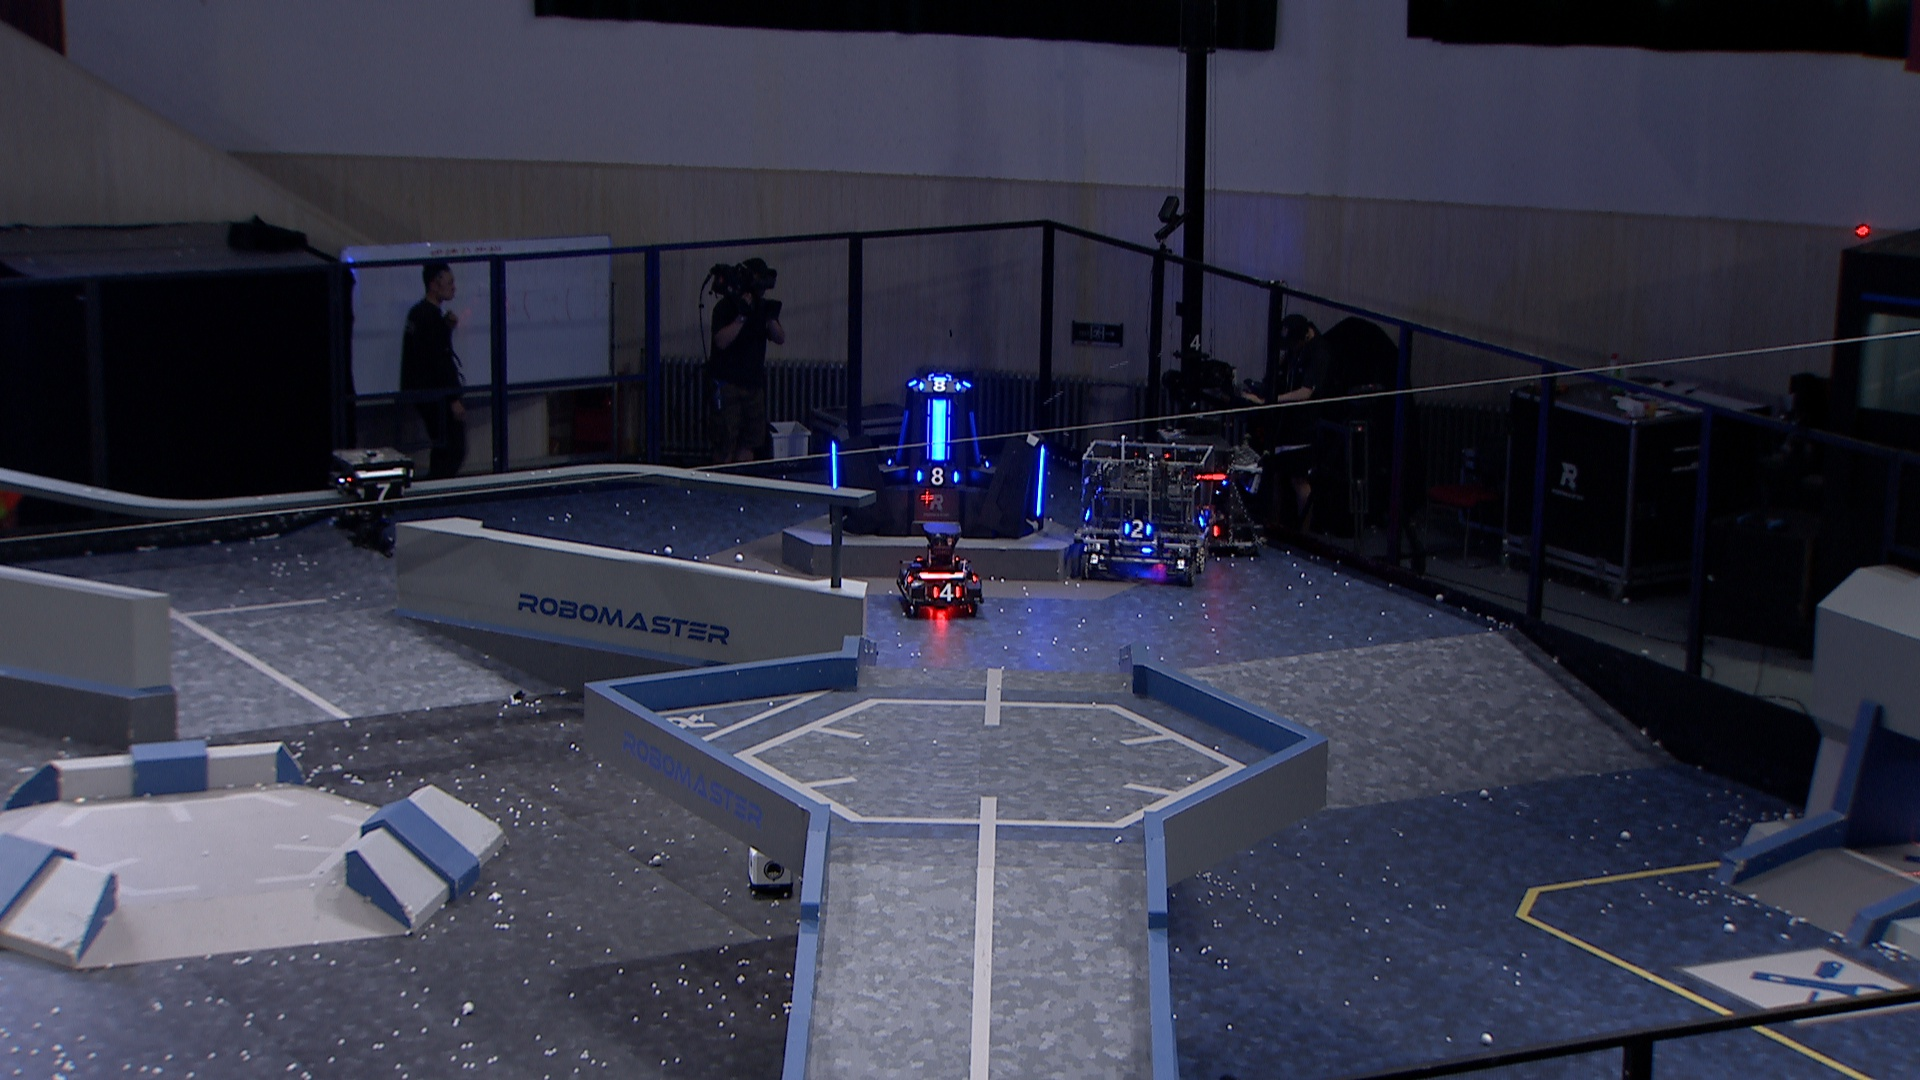armor: (930, 400, 948, 463), (1034, 443, 1048, 520), (357, 481, 406, 504), (915, 465, 959, 488), (918, 377, 964, 398), (895, 407, 913, 462), (967, 410, 984, 463), (1122, 518, 1154, 541), (932, 579, 961, 603), (829, 438, 841, 491), (899, 570, 916, 588), (1197, 508, 1211, 529)
base: (829, 372, 1050, 542)
car: (1069, 438, 1216, 585), (1158, 429, 1269, 555), (895, 522, 986, 616)
watcher: (332, 447, 415, 555)
